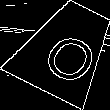O_NE: (31, 17, 100, 82)
